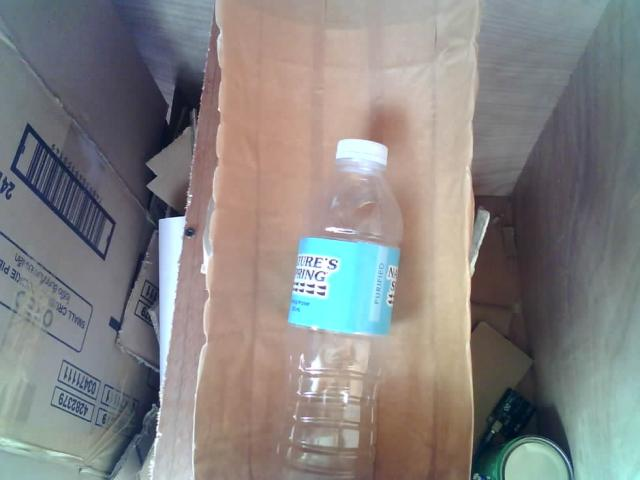small_bottle: (266, 127, 422, 480)
